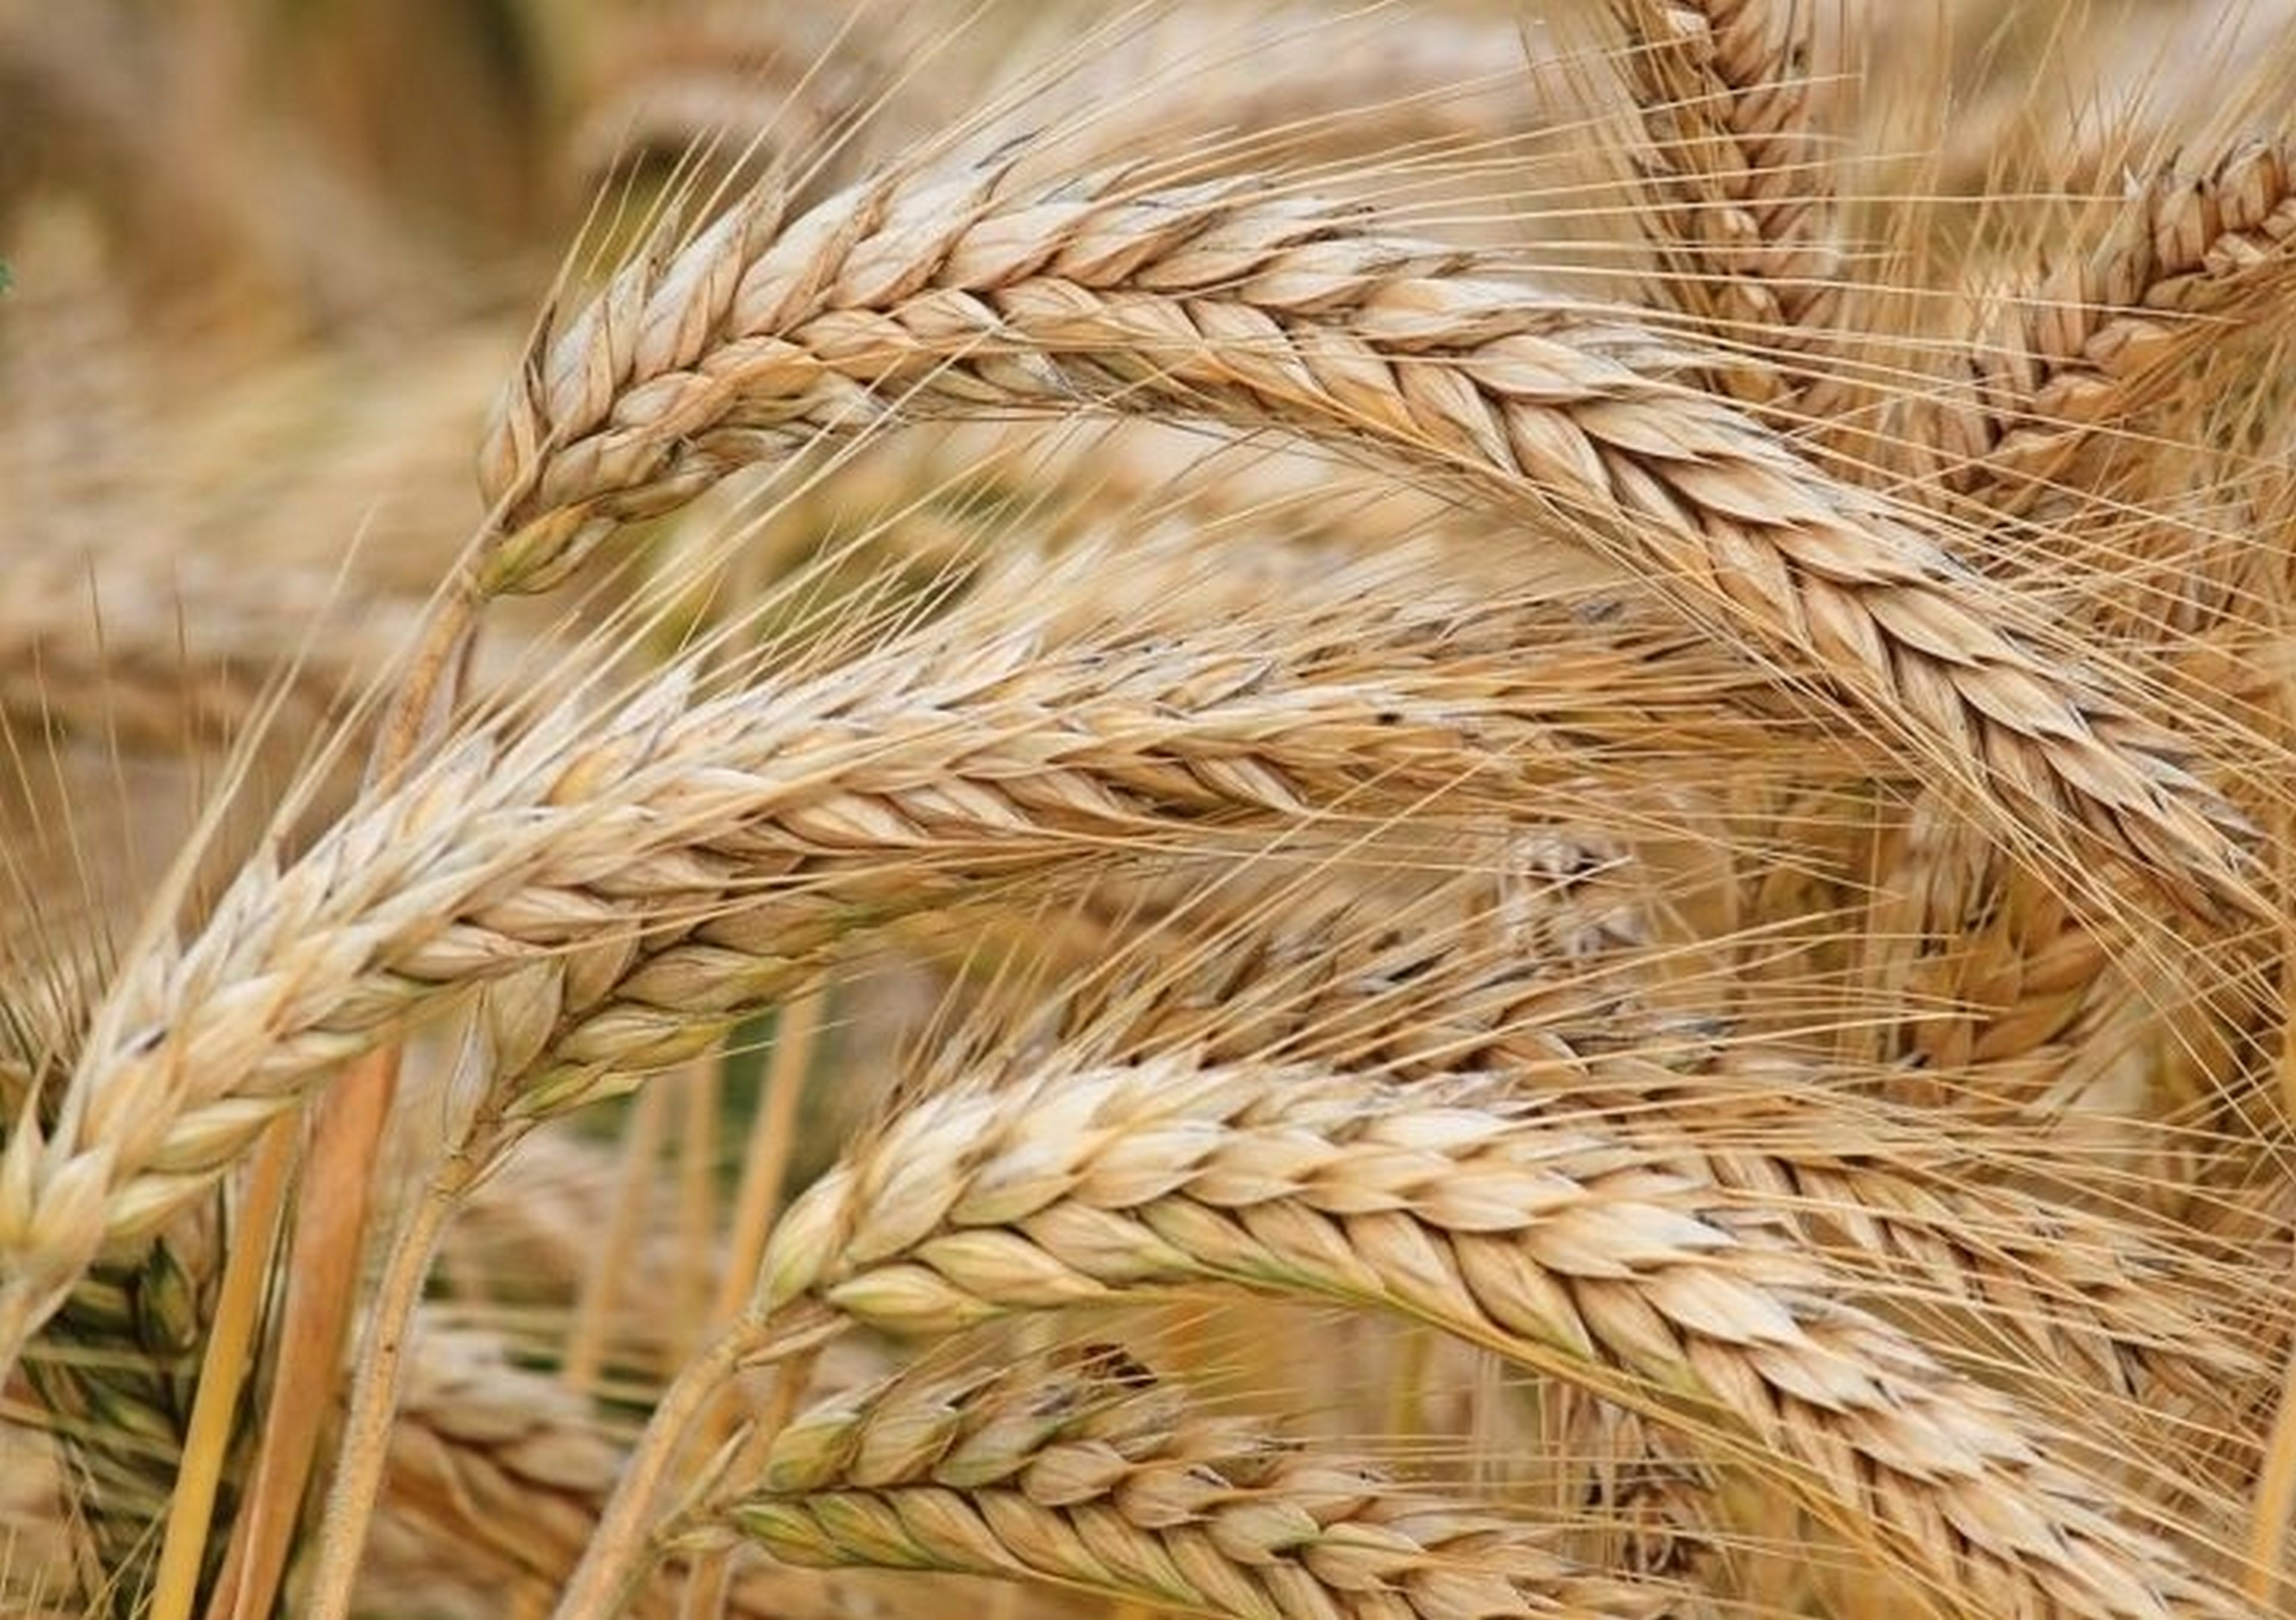Healthy Wheat: (408, 116, 2245, 901)
